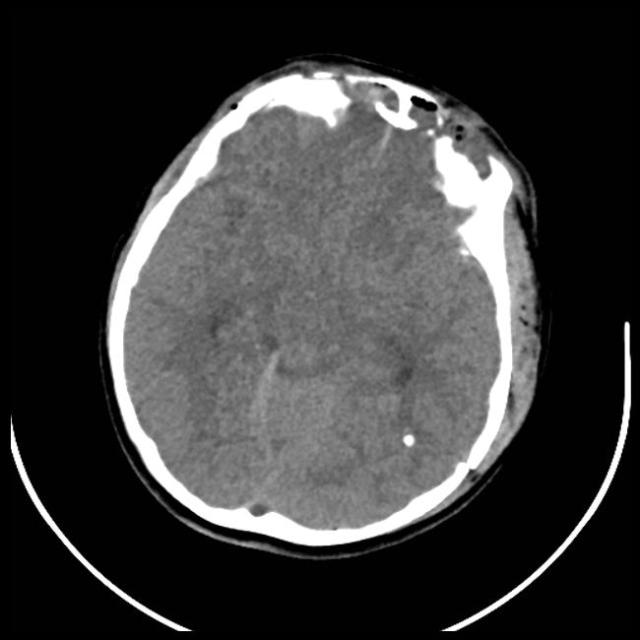lesion: (101, 55, 548, 548)
